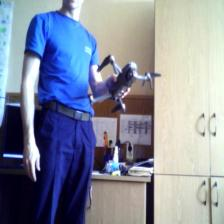drone: (85, 48, 162, 123)
